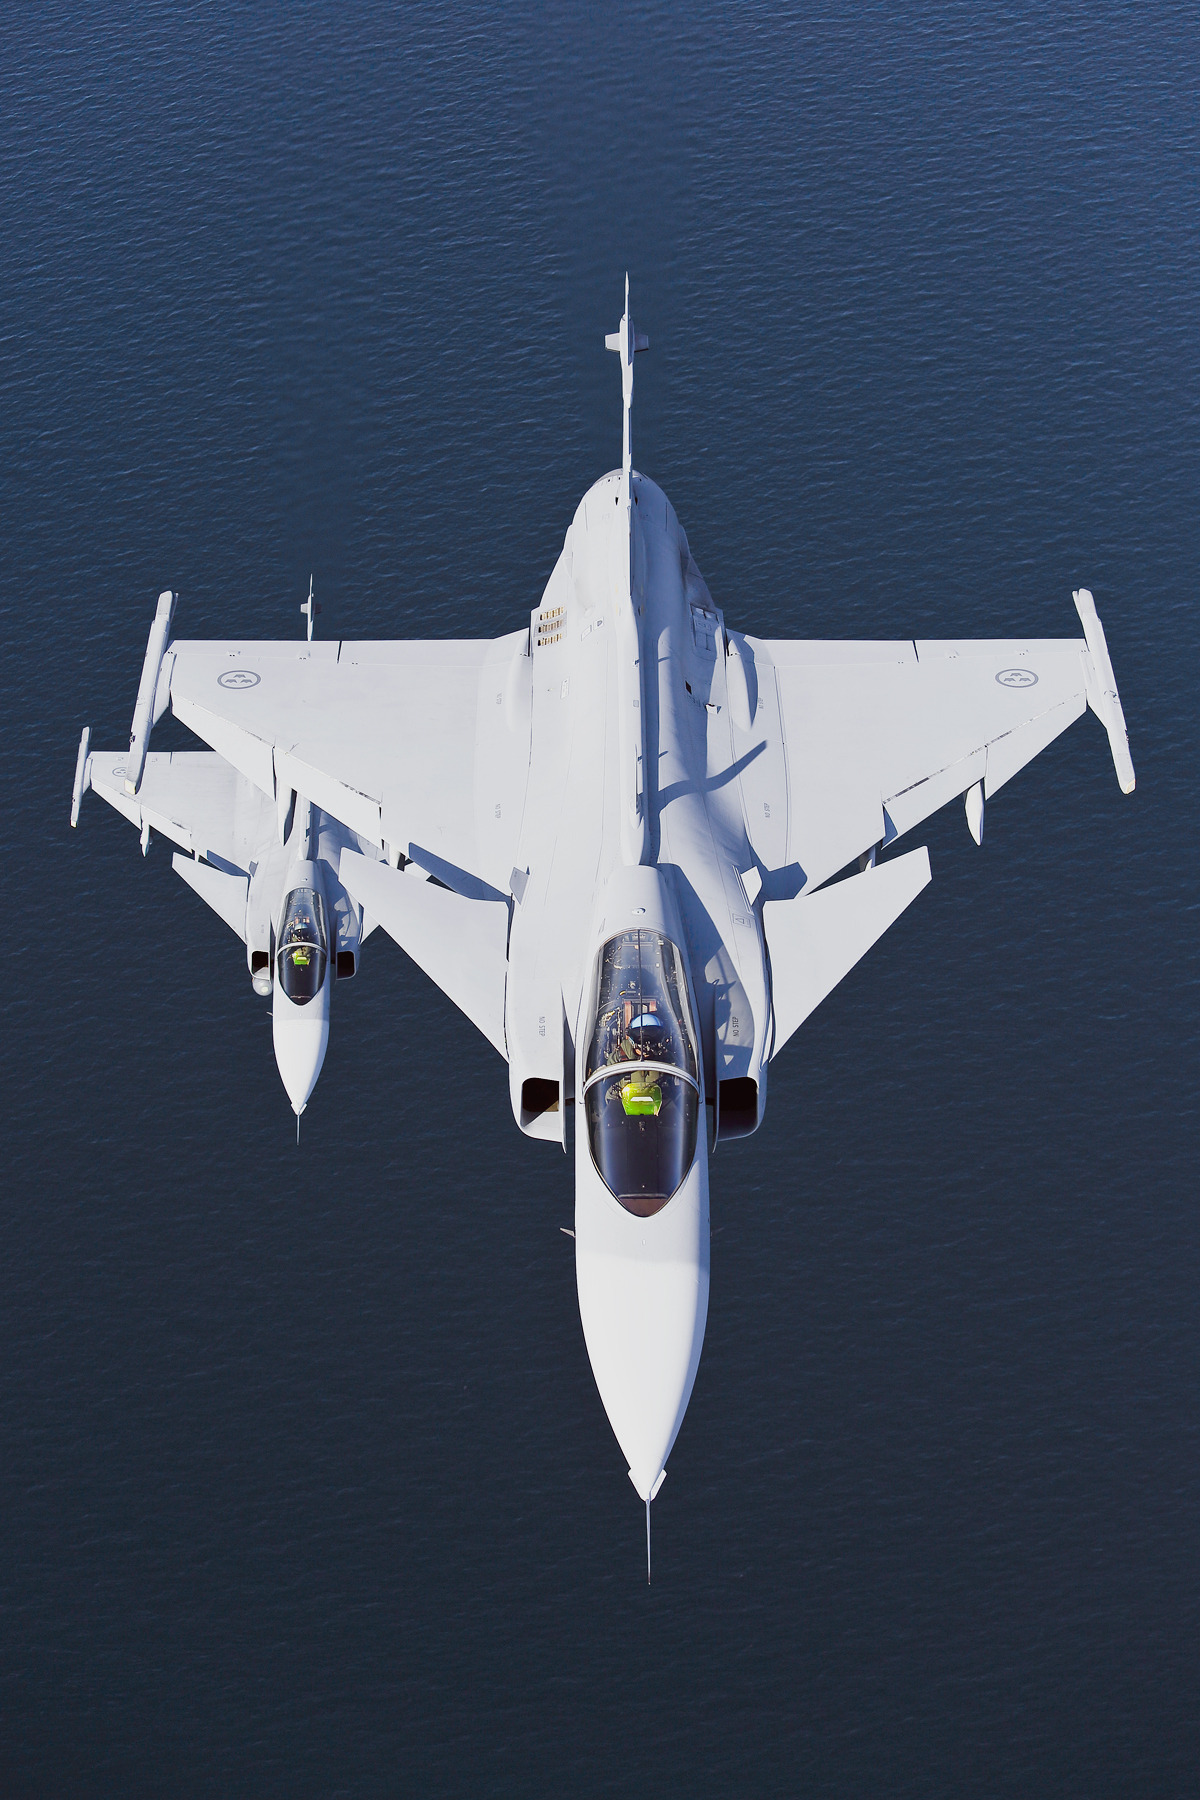JAS39: (123, 271, 1136, 1587), (70, 573, 433, 1146)
